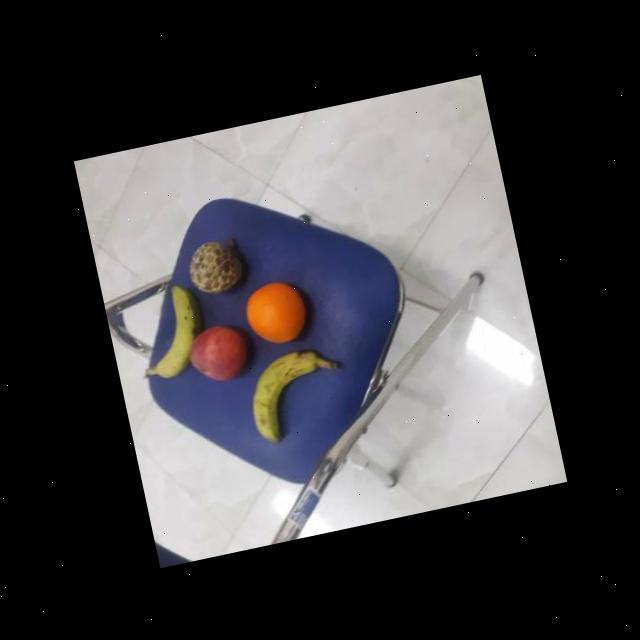Sakya fruit: (180, 234, 248, 300)
apple: (184, 316, 256, 388)
banana: (240, 342, 332, 446), (132, 274, 210, 384)
orange: (238, 272, 314, 352)
